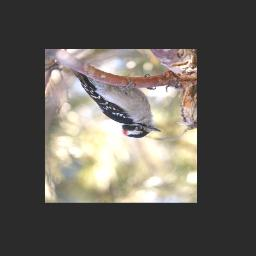Woodpecker: (72, 68, 162, 138)
